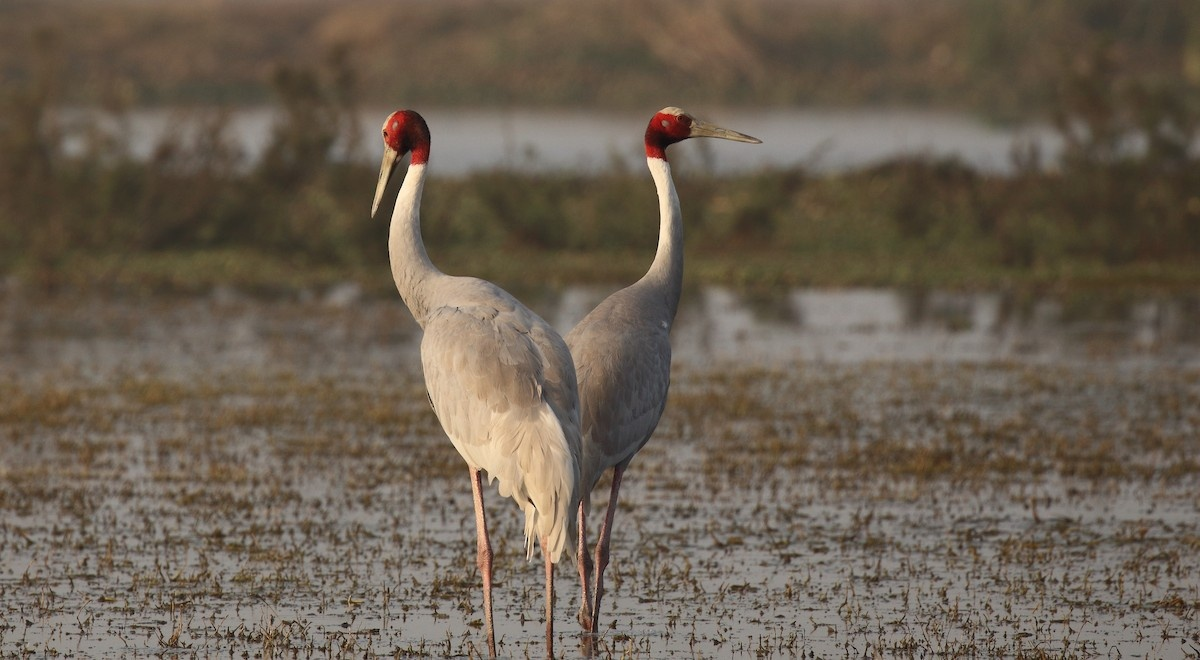crane: (527, 102, 769, 657), (365, 102, 574, 656)
